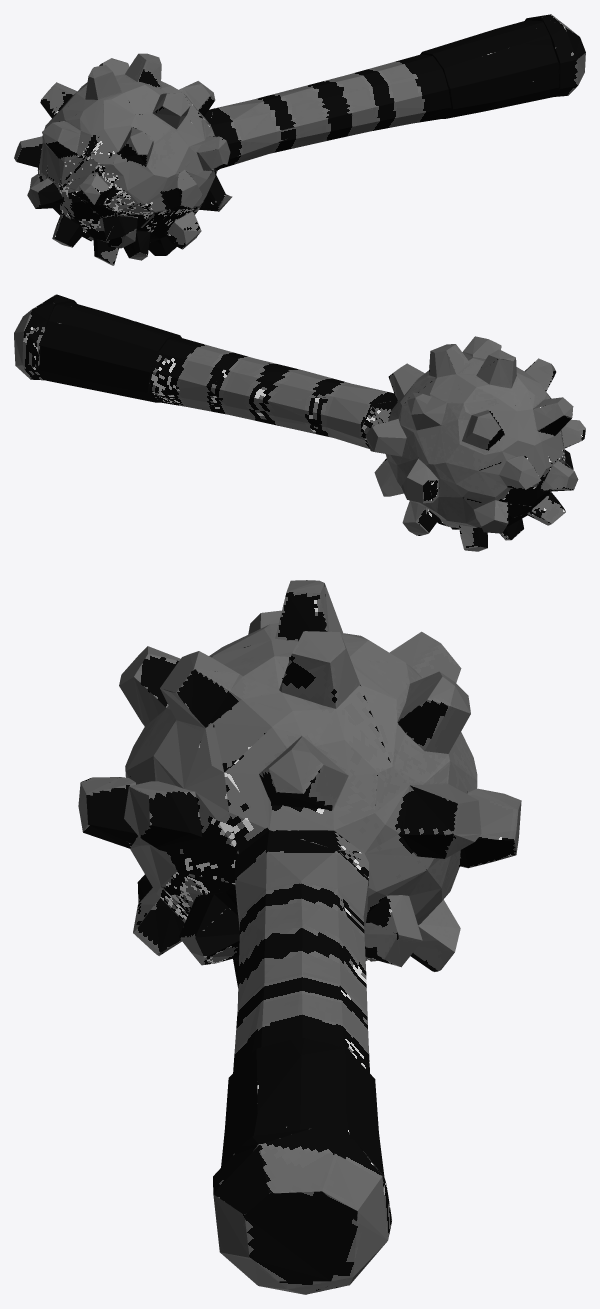
3 renders of one model, top to bottom at view 1: azimuth 30°, elevation 25°; view 2: azimuth 150°, elevation 25°; view 3: azimuth 270°, elevation 25°, orthographic. The views are drawn at different scales.
Visible parts, largest first — view 1: OBJ009; view 2: OBJ009; view 3: OBJ009.
Boxes of the visible parts, x1,y1,x2,y2 form: OBJ009: (14, 14, 585, 265); OBJ009: (14, 294, 585, 551); OBJ009: (78, 580, 521, 1294).
Bounding box in the file's own units: 0.3884 × 0.1315 × 0.1383.
1 material, 1 textured.
